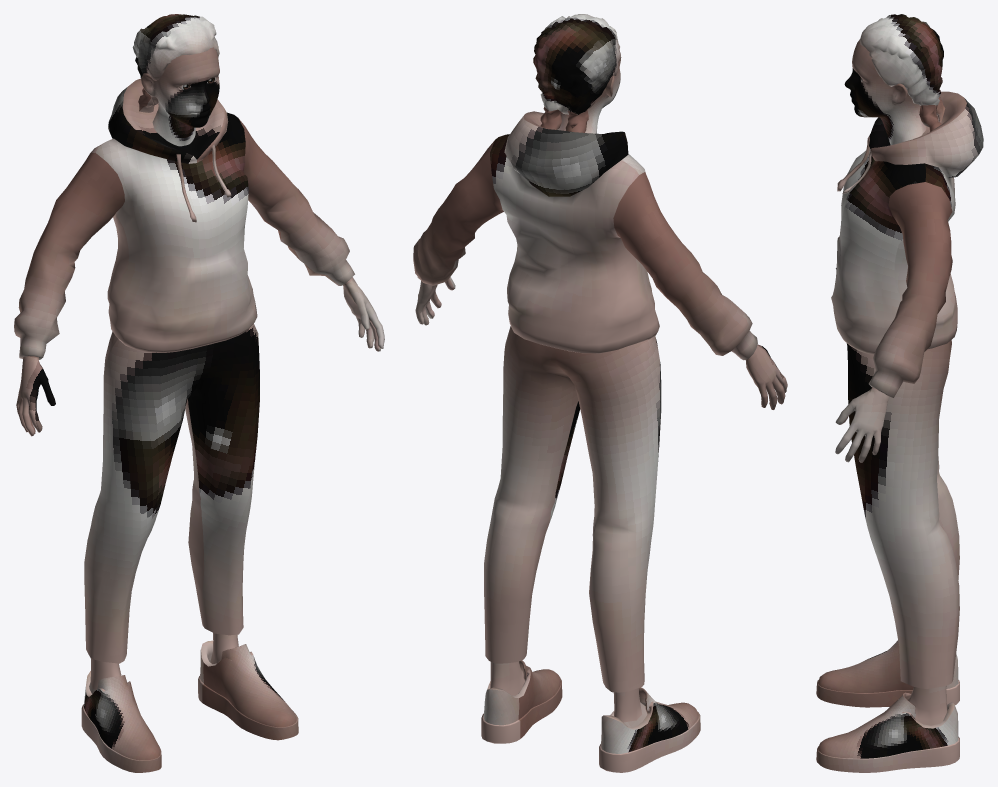
File: 8_Francesca.fbx
The picture shows the model from 3 angles, left to right: view 1: azimuth 30°, elevation 25°; view 2: azimuth 150°, elevation 25°; view 3: azimuth 270°, elevation 25°; orthographic projection.
Visible parts, largest first — view 1: Wolf3D_Outfit_Top, Wolf3D_Outfit_Bottom, Wolf3D_Outfit_Footwear, Wolf3D_Head, Wolf3D_Body, Wolf3D_Hair; view 2: Wolf3D_Outfit_Top, Wolf3D_Outfit_Bottom, Wolf3D_Outfit_Footwear, Wolf3D_Hair, Wolf3D_Body, Wolf3D_Head; view 3: Wolf3D_Outfit_Top, Wolf3D_Outfit_Bottom, Wolf3D_Outfit_Footwear, Wolf3D_Hair, Wolf3D_Head, Wolf3D_Body.
Part boxes in pixels (left/top/right/bottom): Wolf3D_Outfit_Top: left=14, top=78, right=354, bottom=359; Wolf3D_Outfit_Bottom: left=84, top=323, right=259, bottom=663; Wolf3D_Outfit_Footwear: left=81, top=640, right=298, bottom=772; Wolf3D_Head: left=141, top=47, right=219, bottom=146; Wolf3D_Body: left=16, top=277, right=384, bottom=693; Wolf3D_Hair: left=132, top=14, right=219, bottom=112; Wolf3D_Outfit_Top: left=413, top=111, right=757, bottom=360; Wolf3D_Outfit_Bottom: left=484, top=326, right=661, bottom=692; Wolf3D_Outfit_Footwear: left=481, top=660, right=700, bottom=772; Wolf3D_Hair: left=533, top=14, right=620, bottom=132; Wolf3D_Body: left=415, top=277, right=787, bottom=727; Wolf3D_Head: left=557, top=52, right=621, bottom=133; Wolf3D_Outfit_Top: left=831, top=91, right=983, bottom=397; Wolf3D_Outfit_Bottom: left=846, top=340, right=959, bottom=688; Wolf3D_Outfit_Footwear: left=816, top=640, right=959, bottom=772; Wolf3D_Hair: left=859, top=14, right=945, bottom=131; Wolf3D_Head: left=844, top=39, right=926, bottom=144; Wolf3D_Body: left=835, top=268, right=947, bottom=725.
Size of the model in its own units: 92.79 by 176 by 37.58.
8 materials, 8 textured.
